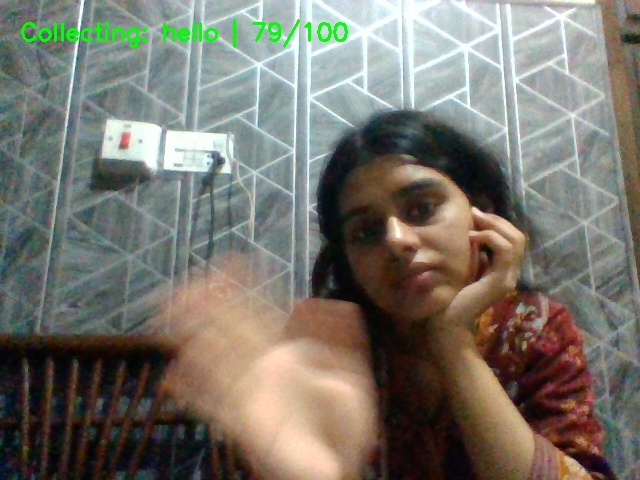hello: (135, 248, 409, 480)
